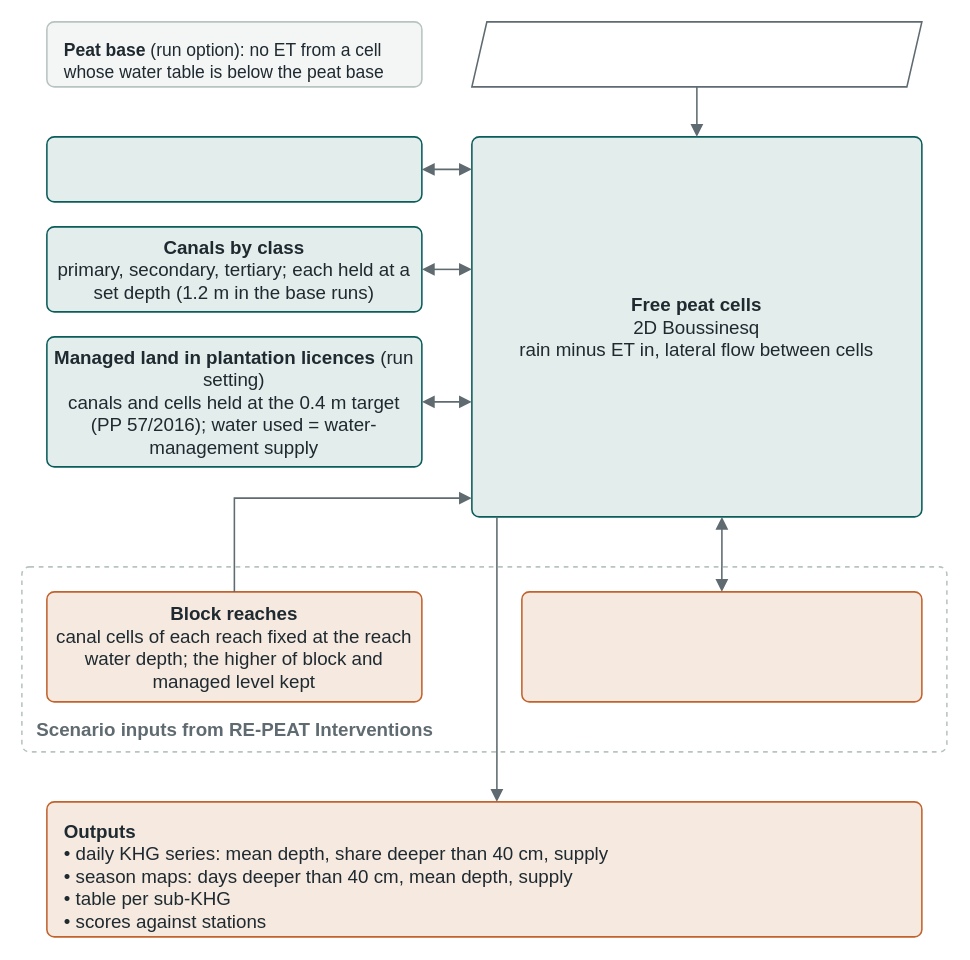
This 970x960 diagram has some shape labels left out. Each missing label, with the centre of its shape:
KHG edge held 0.3 m below the surface: point (234, 169)
Land marked for water supply held at 0.4 m; water used = pumping need: point (721, 646)
Rain (CHIRPS) and ET (MOD16) KHG mean per dekad: point (696, 53)
